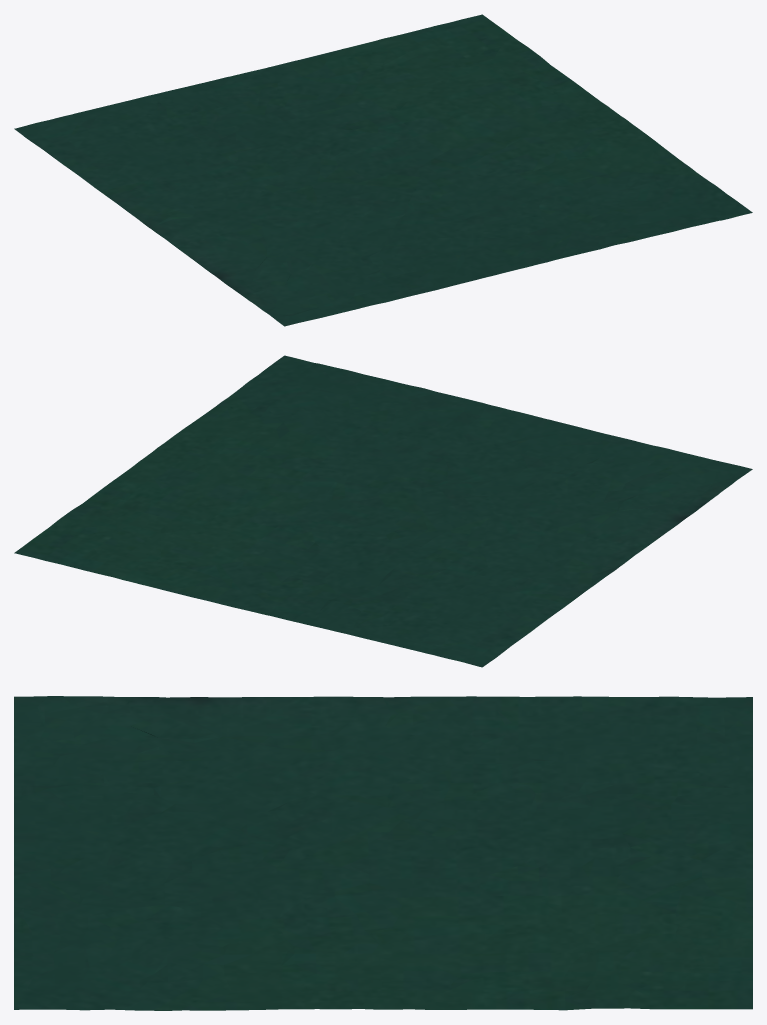
3 views of the same model, one above another, from view 1: azimuth 30°, elevation 25°; view 2: azimuth 150°, elevation 25°; view 3: azimuth 270°, elevation 25° (orthographic). The views are drawn at different scales.
Size of the model in its own units: 104 by 0.4944 by 104.
Materials: 2 (2 with a texture image).
